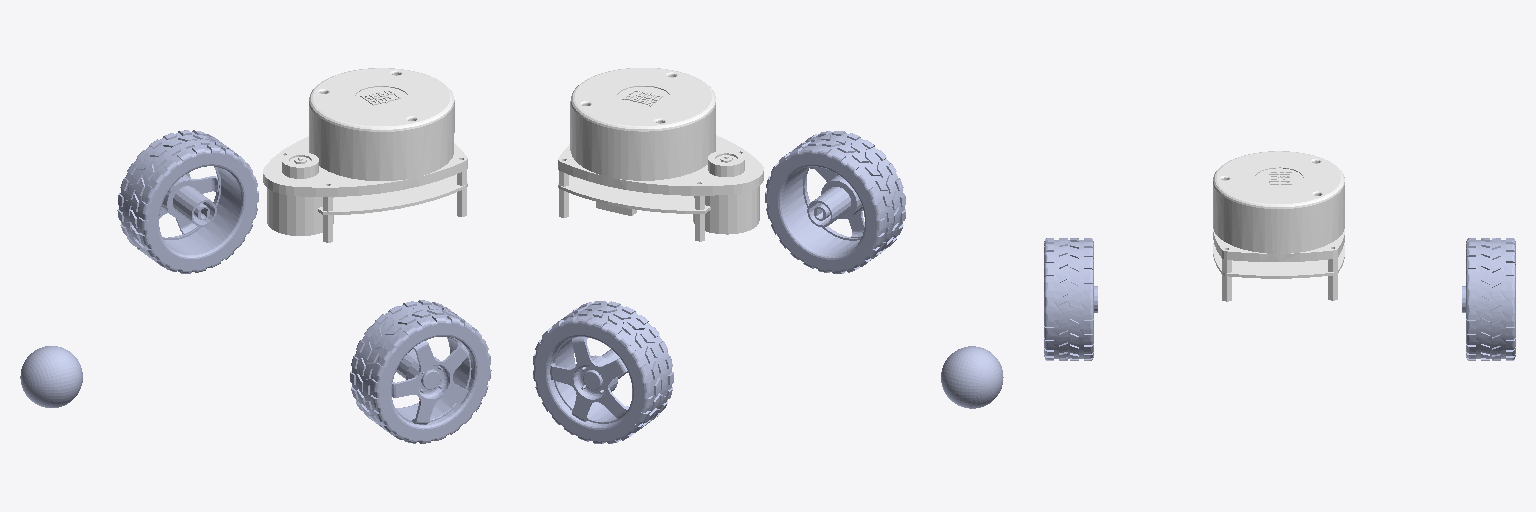
The robot description file, URDF, robot "robot_car":
<?xml version="1.0" encoding="utf-8"?>
<!-- This URDF was automatically created by SolidWorks to URDF Exporter! Originally created by [author] ([email redacted]) 
     Commit Version: 1.6.0-4-g7f85cfe  Build Version: 1.6.7995.38578
     For more information, please see http://wiki.ros.org/sw_urdf_exporter -->
<robot name="robot_car">
  <gazebo>
    <plugin name="differential_drive_controller" filename="libgazebo_ros_diff_drive.so">
      <!-- Plugin update rate in Hz -->
      <updateRate>10</updateRate>
      <!-- Thông tin bánh xe -->
      <leftJoint>left_wheel_joint</leftJoint>
      <rightJoint>right_wheel_joint</rightJoint>
      <wheelSeparation>0.35</wheelSeparation>
      <wheelDiameter>0.1</wheelDiameter>
      <!-- Giới hạn -->
      <wheelTorque>200</wheelTorque>
      <wheelAcceleration>10.0</wheelAcceleration>
      <!-- Output -->
      <odometryFrame>odom</odometryFrame>
      <robotBaseFrame>base_link</robotBaseFrame>
      <publishOdomTF>true</publishOdomTF>
      <publishWheelTF>true</publishWheelTF>
    </plugin>
  </gazebo>
  <gazebo>
    <plugin name="gazebo_ros_control" filename="libgazebo_ros_control.so">
      <robotNamespace>/robot_car</robotNamespace>
    </plugin>
  </gazebo>
  <gazebo reference="base_link">
    <kp>100000.0</kp>
    <kd>100.0</kd>
    <mu1>1.5</mu1>
    <mu2>1.5</mu2>
    <fdir1>1 0 0</fdir1>
    <maxVel>1.0</maxVel>
    <minDepth>0.001</minDepth>
    <material>Gazebo/Blue</material>
  </gazebo>
  <gazebo reference="right_wheel">
    <kp>100000.0</kp>
    <kd>100.0</kd>
    <mu1>1.5</mu1>
    <mu2>1.5</mu2>
    <fdir1>1 0 0</fdir1>
    <maxVel>1.0</maxVel>
    <minDepth>0.001</minDepth>
    <material>Gazebo/Yellow</material>
  </gazebo>
  <gazebo reference="left_wheel">
    <kp>100000.0</kp>
    <kd>100.0</kd>
    <mu1>1.5</mu1>
    <mu2>1.5</mu2>
    <fdir1>1 0 0</fdir1>
    <maxVel>1.0</maxVel>
    <minDepth>0.001</minDepth>
    <material>Gazebo/Yellow</material>
  </gazebo>
  <gazebo reference="caster_wheel">
    <kp>100000.0</kp>
    <kd>100.0</kd>
    <mu1>1.5</mu1>
    <mu2>1.5</mu2>
    <fdir1>1 0 0</fdir1>
    <maxVel>1.0</maxVel>
    <minDepth>0.001</minDepth>
    <material>Gazebo/Yellow</material>
  </gazebo>
  <gazebo reference="link_ydlidar">
    <kp>100000.0</kp>
    <kd>100.0</kd>
    <mu1>1.5</mu1>
    <mu2>1.5</mu2>
    <fdir1>1 0 0</fdir1>
    <maxVel>1.0</maxVel>
    <minDepth>0.001</minDepth>
    <material>Gazebo/Gray</material>
  </gazebo>
  <link name="base_link">
    <inertial>
      <origin xyz="0.00678154130032599 1.02572811355728E-11 0.049058783144438" rpy="0 0 0" />
      <mass value="0.73044118152173" />
      <inertia ixx="0.00392745212406862" ixy="-3.37182307490775E-11" ixz="0.000128556224286988" iyy="0.00654116388166114" iyz="-2.67918025679153E-17" izz="0.00775398575956591" />
    </inertial>
    <visual>
      <origin xyz="0 0 0" rpy="0 0 0" />
      <geometry>
        <mesh filename="package://robot_description/meshes/base_link.STL" />
      </geometry>
      <material name="">
        <color rgba="0.250980392156863 0.250980392156863 0.250980392156863 1" />
      </material>
    </visual>
    <collision>
      <origin xyz="0 0 0" rpy="0 0 0" />
      <geometry>
        <mesh filename="package://robot_description/meshes/base_link.STL" />
      </geometry>
    </collision>
  </link>
  <link name="right_wheel">
    <inertial>
      <origin xyz="1.02660101662932E-05 -1.28632647117266E-07 0.0103100236495261" rpy="0 0 0" />
      <mass value="0.02973385270431" />
      <inertia ixx="1.22905526652631E-05" ixy="-2.77372356712048E-10" ixz="-5.25015560687806E-12" iyy="1.22912184621518E-05" iyz="-2.7569576618242E-11" izz="2.03782430173705E-05" />
    </inertial>
    <visual>
      <origin xyz="0 0 0" rpy="0 0 0" />
      <geometry>
        <mesh filename="package://robot_description/meshes/right_wheel.STL" />
      </geometry>
      <material name="">
        <color rgba="0.792156862745098 0.819607843137255 0.933333333333333 1" />
      </material>
    </visual>
    <collision>
      <origin xyz="0 0 0" rpy="0 0 0" />
      <geometry>
        <mesh filename="package://robot_description/meshes/right_wheel.STL" />
      </geometry>
    </collision>
  </link>
  <joint name="right_wheel_joint" type="continuous">
    <origin xyz="0.043261 -0.1225 0.02" rpy="-1.5708 0 0" />
    <parent link="base_link" />
    <child link="right_wheel" />
    <axis xyz="0 0 1" />
    <dynamics damping="0.1" friction="0.1" />
  </joint>
  <link name="left_wheel">
    <inertial>
      <origin xyz="-1.0266010166321E-05 -1.28632647172777E-07 -0.0103100236495261" rpy="0 0 0" />
      <mass value="0.0297338527043098" />
      <inertia ixx="1.2290552665263E-05" ixy="2.77372356694601E-10" ixz="-5.25015560058811E-12" iyy="1.22912184621518E-05" iyz="2.75695766269738E-11" izz="2.03782430173704E-05" />
    </inertial>
    <visual>
      <origin xyz="0 0 0" rpy="0 0 0" />
      <geometry>
        <mesh filename="package://robot_description/meshes/left_wheel.STL" />
      </geometry>
      <material name="">
        <color rgba="0.792156862745098 0.819607843137255 0.933333333333333 1" />
      </material>
    </visual>
    <collision>
      <origin xyz="0 0 0" rpy="0 0 0" />
      <geometry>
        <mesh filename="package://robot_description/meshes/left_wheel.STL" />
      </geometry>
    </collision>
  </link>
  <joint name="left_wheel_joint" type="continuous">
    <origin xyz="0.043282 0.1225 0.02" rpy="-1.5708 0 0" />
    <parent link="base_link" />
    <child link="left_wheel" />
    <axis xyz="0 0 1" />
    <dynamics damping="0.1" friction="0.1" />
  </joint>
  <link name="caster_wheel">
    <inertial>
      <origin xyz="-0.16814 0.0040136 -0.0726" rpy="0 0 0" />
      <mass value="0.014137" />
      <inertia ixx="1.2723E-06" ixy="-4.9631E-24" ixz="-2.351E-38" iyy="1.2723E-06" iyz="-3.6734E-39" izz="1.2723E-06" />
    </inertial>
    <visual>
      <origin xyz="0 0 0" rpy="0 0 0" />
      <geometry>
        <mesh filename="package://robot_description/meshes/caster_wheel.STL" />
      </geometry>
      <material name="">
        <color rgba="0.79216 0.81961 0.93333 1" />
      </material>
    </visual>
    <collision>
      <origin xyz="0 0 0" rpy="0 0 0" />
      <geometry>
        <mesh filename="package://robot_description/meshes/caster_wheel.STL" />
      </geometry>
    </collision>
  </link>
  <joint name="caster_wheel_joint" type="continuous">
    <origin xyz="0.071461 -0.00080282 0.0776" rpy="0 0 0.019092" />
    <parent link="base_link" />
    <child link="caster_wheel" />
    <axis xyz="0 0 1" />
    <dynamics damping="0.1" friction="0.1" />
  </joint>
  <link name="link_ydlidar">
    <inertial>
      <origin xyz="0 0 0" rpy="0 0 0" />
      <mass value="0" />
      <inertia ixx="0" ixy="0" ixz="0" iyy="0" iyz="0" izz="0" />
    </inertial>
    <visual>
      <origin xyz="0 0 0" rpy="0 0 0" />
      <geometry>
        <mesh filename="package://robot_description/meshes/link_ydlidar.STL" />
      </geometry>
      <material name="">
        <color rgba="1 1 1 1" />
      </material>
    </visual>
    <collision>
      <origin xyz="0 0 0" rpy="0 0 0" />
      <geometry>
        <mesh filename="package://robot_description/meshes/link_ydlidar.STL" />
      </geometry>
    </collision>
  </link>
  <joint name="joint_ydlidar" type="fixed">
    <origin xyz="0.071461 -0.00080282 0.0776" rpy="0 0 0.019092" />
    <parent link="base_link" />
    <child link="link_ydlidar" />
    <axis xyz="0 0 1" />
    <dynamics damping="0.1" friction="0.1" />
  </joint>
</robot>

--- What the picture shows (computed from the rendered views, not written in the file) ---
3 views of the same robot in one strip: view 1: azimuth 30°, elevation 25°; view 2: azimuth 150°, elevation 25°; view 3: azimuth 270°, elevation 25° (orthographic).
Model robot_car with 5 links and 4 joints (3 continuous, 1 fixed), rooted at base_link, posed every joint at zero.
Visible links, largest first — view 1: link_ydlidar, left_wheel, right_wheel, caster_wheel; view 2: link_ydlidar, right_wheel, left_wheel, caster_wheel; view 3: link_ydlidar, right_wheel, left_wheel.
Link boxes in pixels (bbox=[...]): link_ydlidar: bbox=[263, 68, 467, 242]; left_wheel: bbox=[117, 130, 258, 273]; right_wheel: bbox=[350, 300, 491, 443]; caster_wheel: bbox=[20, 346, 82, 407]; link_ydlidar: bbox=[558, 68, 763, 241]; right_wheel: bbox=[765, 131, 905, 273]; left_wheel: bbox=[533, 301, 673, 443]; caster_wheel: bbox=[941, 346, 1003, 408]; link_ydlidar: bbox=[1213, 151, 1344, 301]; right_wheel: bbox=[1044, 238, 1097, 360]; left_wheel: bbox=[1462, 238, 1515, 360].
Bounding box of the posed robot: 0.2324 × 0.249 × 0.1232 m (x, y, z).
4 mesh visuals loaded from 5 distinct referenced files (4 binary STL); not drawn: 1 (reference not matched to a file when rendering).
